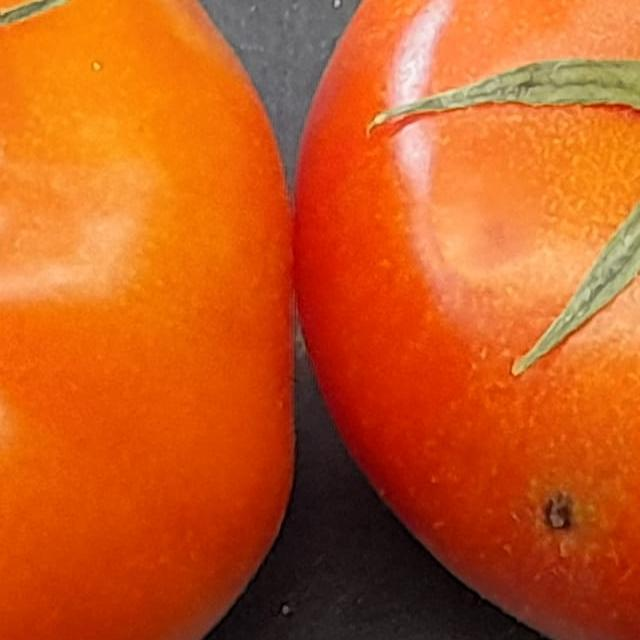tomato: (270, 0, 640, 640), (0, 0, 305, 640)
